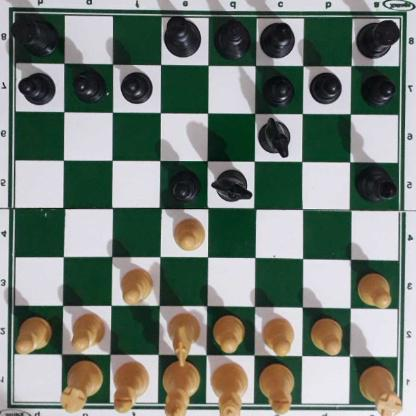black-bishop: (355, 165, 400, 202), (258, 18, 298, 55)
black-king: (164, 15, 201, 59)
black-knight: (260, 116, 293, 155), (214, 168, 253, 201)
black-pawn: (20, 69, 56, 105), (167, 166, 202, 202), (362, 72, 396, 104), (73, 68, 105, 102), (121, 68, 153, 102), (312, 70, 343, 104), (264, 71, 295, 105)
black-queen: (212, 16, 252, 60)
black-rook: (356, 16, 404, 58), (14, 10, 58, 55)
white-bishop: (114, 361, 151, 411), (262, 360, 295, 413)
white-king: (163, 357, 201, 414)
white-knight: (167, 310, 202, 366)
white-pawn: (69, 310, 107, 350), (16, 314, 53, 351), (358, 271, 395, 307), (311, 315, 346, 353), (264, 315, 297, 355), (121, 266, 155, 304), (214, 313, 247, 351), (174, 215, 207, 250)
white-queen: (211, 361, 250, 416)
white-rook: (361, 360, 401, 416), (63, 363, 104, 409)
